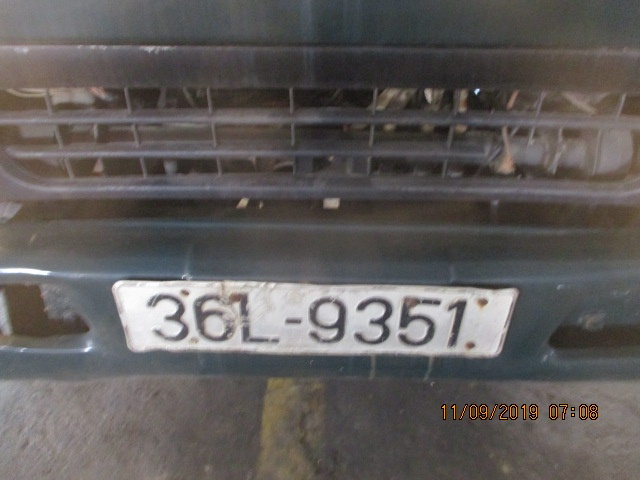number_plate: (137, 290, 477, 347)
